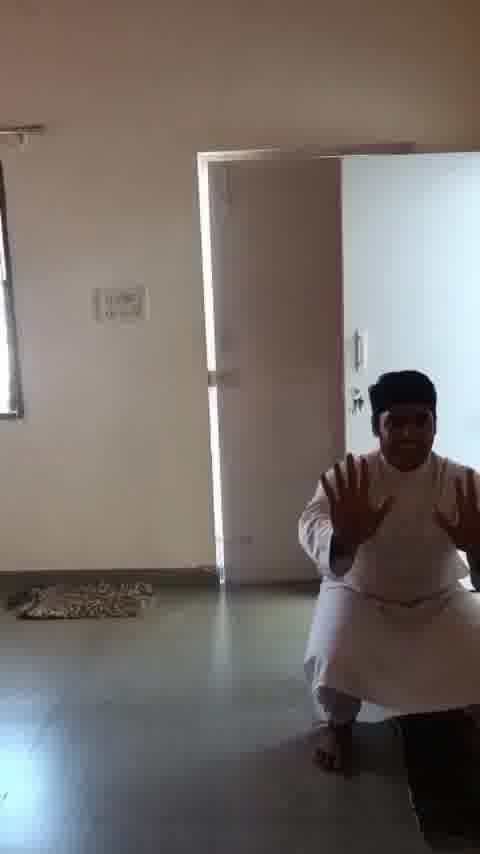duck: (283, 366, 480, 788)
